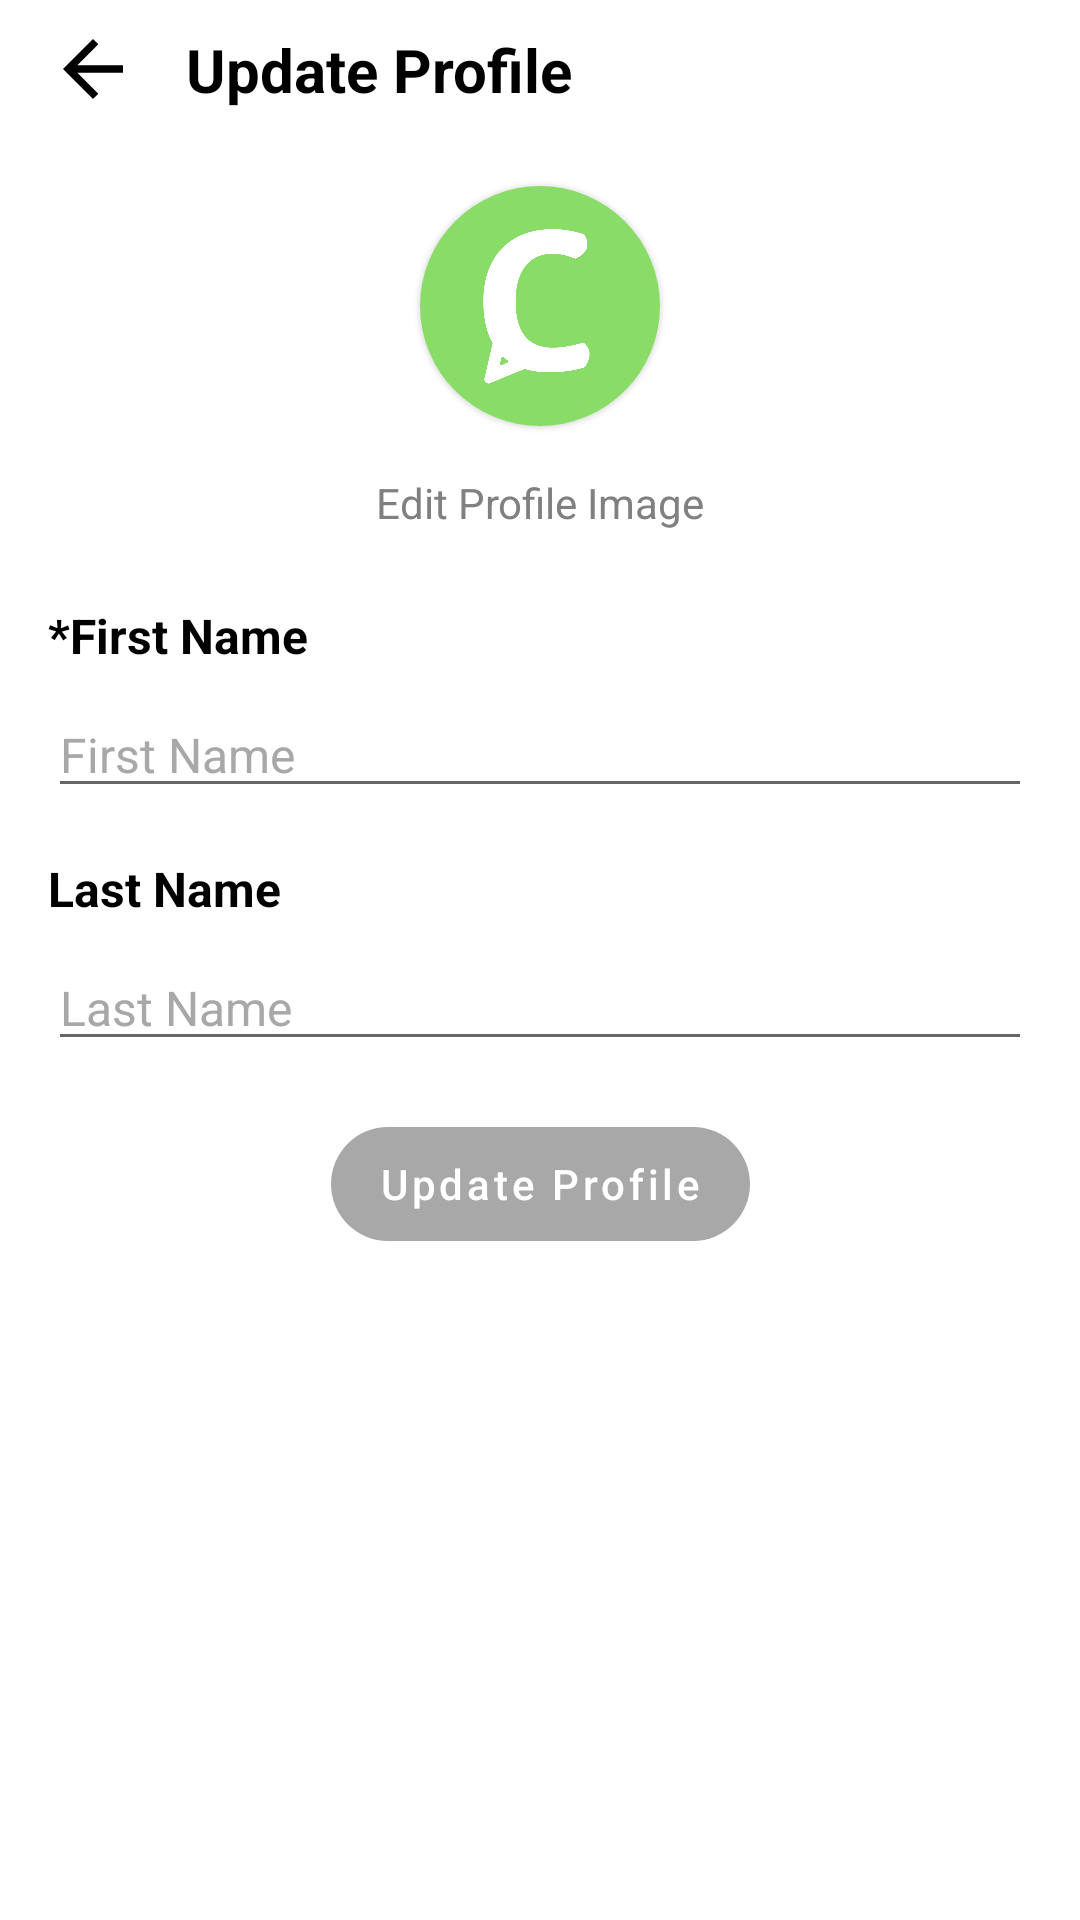

Screen size 1080px×1920px. Icon name, then its center in pixels as (x,y):
Back: (93,69)
